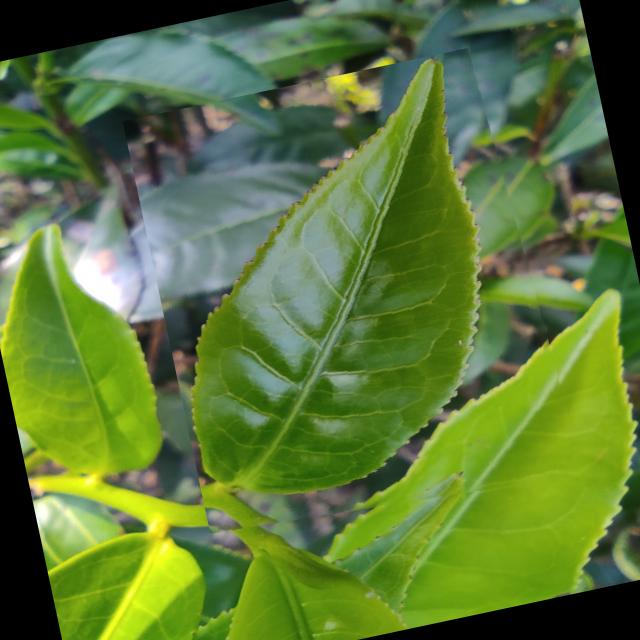Category B(2-4 days): (121, 42, 584, 552)
